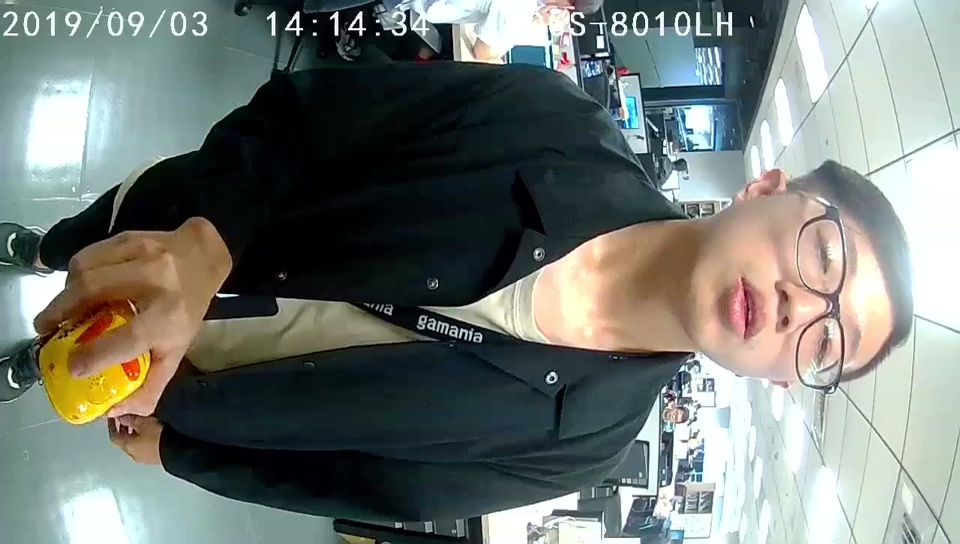car: (41, 307, 147, 424)
